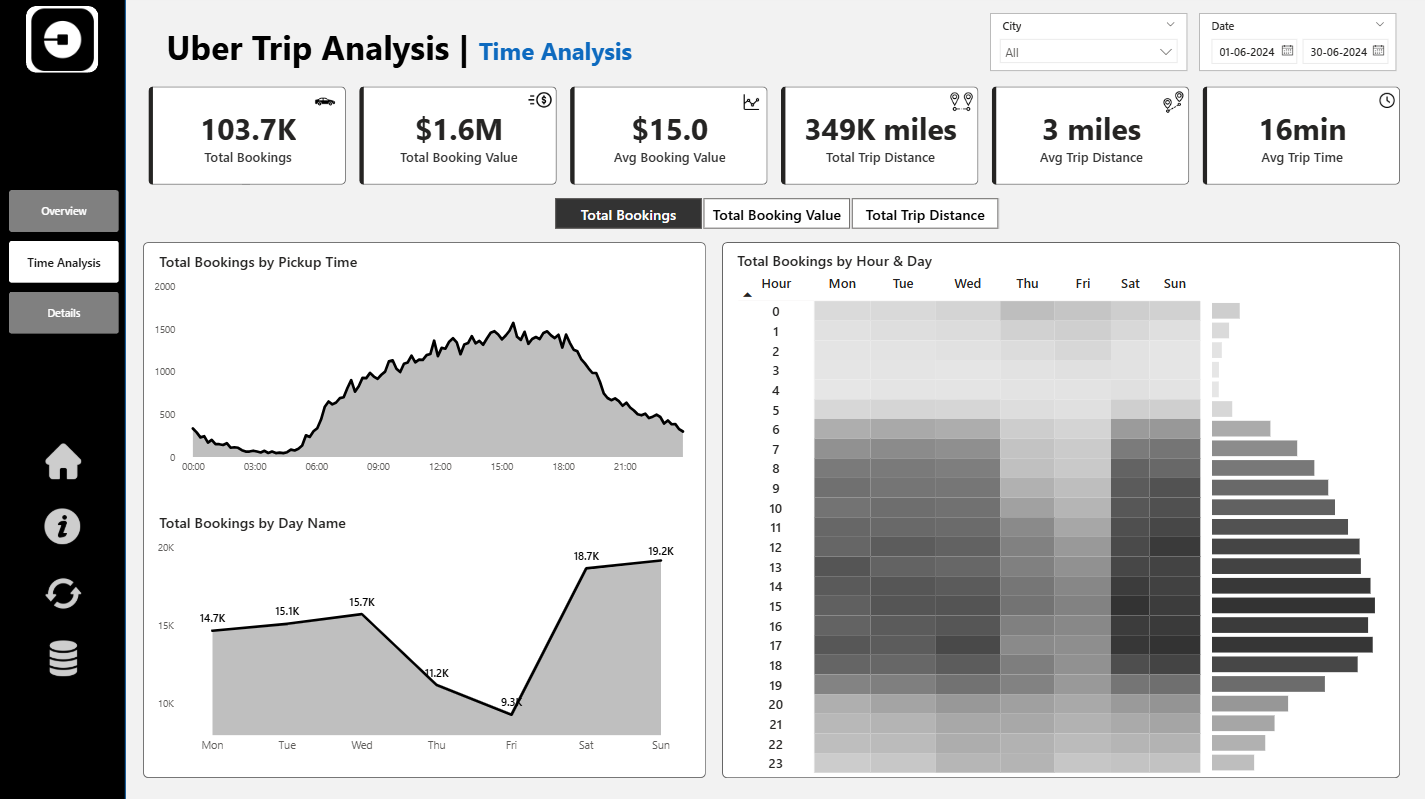

Layout of this report page (visuals, bound fields, positions):
{"tool":"powerbi","page":{"name":"Time Analysis","canvas":[1600,900],"ordinal":1},"visuals":[{"type":"shape","box":[161.2,272,630.2,600],"z":0},{"type":"shape","box":[0,0,141.8,899.9],"z":1000},{"type":"textbox","box":[182.5,23.5,596.6,73.9],"z":2000},{"type":"cardVisual","fields":{"Data":["Calculation Table.Total Bookings","Calculation Table.Total Booking Amount","Calculation Table.Avg Booking Amount","Calculation Table.Total Trip Distance","Calculation Table.Avg Trip Distance","Calculation Table.Avg Trip Time"]},"box":[162,93,1415,120],"z":3000},{"type":"image","box":[587.2,92.4,36.5,40.1],"z":4000},{"type":"image","box":[1059,97.3,36.5,35.3],"z":5000},{"type":"shape","box":[30.6,7.9,81,74.7],"z":5250,"group":"g1"},{"type":"image","box":[30,6,82,80],"z":5500,"group":"g1"},{"type":"image","box":[1298.5,97.3,34,35.3],"z":6000},{"type":"image","box":[1540.4,93.6,26.7,38.9],"z":7000},{"type":"image","box":[826.7,97.3,30.4,35.3],"z":8000},{"type":"image","box":[342.9,97.3,45,35.3],"z":9000},{"type":"slicer","fields":{"Values":["Dynamic Measure.Dynamic Measure"]},"box":[596.6,216,546.3,48],"z":10000},{"type":"slicer","fields":{"Values":["Calender Table.Date"]},"box":[1343.3,16,221,65],"z":11000},{"type":"slicer","fields":{"Values":["Location Table.City"]},"box":[1109.3,16,220.5,65],"z":12000},{"type":"areaChart","fields":{"Y":["Calculation Table.Total Bookings"],"Category":["Trip Details.Pickup Hour (HH MM SS) (bins)"]},"box":[169,307.8,614.6,234],"z":13000},{"type":"areaChart","fields":{"Y":["Calculation Table.Total Bookings"],"Category":["Calender Table.Day Name"]},"box":[172.5,600.3,607.1,253],"z":14000},{"type":"cardVisual","fields":{"Data":["Trip Details.Title for by Day Name"]},"box":[162.3,549.2,296.2,51.1],"z":15000},{"type":"cardVisual","fields":{"Data":["Trip Details.Title for by pickup time"]},"box":[162.3,257.5,296.6,51.5],"z":16000},{"type":"shape","box":[809.1,272.3,759.1,600.3],"z":17000},{"type":"pivotTable","fields":{"Values":["Calculation Table.Total Bookings"],"Rows":["Trip Details.Pick Up Hour (HH)"],"Columns":["Calender Table.Day Name"]},"box":[822.7,301,568.5,571.9],"z":18000},{"type":"barChart","fields":{"Y":["Calculation Table.Total Bookings"],"Category":["Trip Details.Pick Up Hour (HH)"]},"box":[1358.3,327,189.5,564],"z":19000},{"type":"cardVisual","fields":{"Data":["Trip Details.Title for by Hour & Day"]},"box":[809.1,256.5,296.2,51.1],"z":20000},{"type":"pageNavigator","box":[11,213.2,123,163],"z":21000},{"type":"group","id":"g1","title":"logo","box":[30,6,82,80],"z":22000},{"type":"image","box":[47,493,49.8,49.8],"z":23000},{"type":"image","box":[47,632.5,49.8,65.6],"z":24000},{"type":"image","box":[47,712.9,49.8,49.8],"z":25000},{"type":"group","id":"g2","title":"Group 1","box":[46.2,565,51.3,51.3],"z":26000},{"type":"image","box":[46.2,565,49.9,49.9],"z":31500,"group":"g2"},{"type":"card","fields":{"Values":["Calculation Table.Blank"]},"box":[46.2,565,51.3,51.3],"z":38500,"group":"g2"}]}

Visuals, with their boxes on the page's 1600x900 design canvas (x1, y1, x2, y2). These are canvas units, not pixel positions in the 1425x799 screenshot, which may show the page scaled, cropped or inside an application window:
shape: bbox(161, 272, 791, 872)
shape: bbox(0, 0, 142, 900)
textbox: bbox(182, 24, 779, 97)
cardVisual - Calculation Table.Total Bookings x Calculation Table.Total Booking Amount: bbox(162, 93, 1577, 213)
image: bbox(587, 92, 624, 132)
image: bbox(1059, 97, 1096, 133)
shape: bbox(31, 8, 112, 83)
image: bbox(30, 6, 112, 86)
image: bbox(1298, 97, 1332, 133)
image: bbox(1540, 94, 1567, 132)
image: bbox(827, 97, 857, 133)
image: bbox(343, 97, 388, 133)
slicer - Dynamic Measure.Dynamic Measure: bbox(597, 216, 1143, 264)
slicer - Calender Table.Date: bbox(1343, 16, 1564, 81)
slicer - Location Table.City: bbox(1109, 16, 1330, 81)
areaChart - Calculation Table.Total Bookings x Trip Details.Pickup Hour (HH MM SS) (bins): bbox(169, 308, 784, 542)
areaChart - Calculation Table.Total Bookings x Calender Table.Day Name: bbox(172, 600, 780, 853)
cardVisual - Trip Details.Title for by Day Name: bbox(162, 549, 458, 600)
cardVisual - Trip Details.Title for by pickup time: bbox(162, 258, 459, 309)
shape: bbox(809, 272, 1568, 873)
pivotTable - Calculation Table.Total Bookings x Trip Details.Pick Up Hour (HH): bbox(823, 301, 1391, 873)
barChart - Calculation Table.Total Bookings x Trip Details.Pick Up Hour (HH): bbox(1358, 327, 1548, 891)
cardVisual - Trip Details.Title for by Hour & Day: bbox(809, 256, 1105, 308)
pageNavigator: bbox(11, 213, 134, 376)
"logo" group: bbox(30, 6, 112, 86)
image: bbox(47, 493, 97, 543)
image: bbox(47, 632, 97, 698)
image: bbox(47, 713, 97, 763)
"Group 1" group: bbox(46, 565, 98, 616)
image: bbox(46, 565, 96, 615)
card - Calculation Table.Blank: bbox(46, 565, 98, 616)
